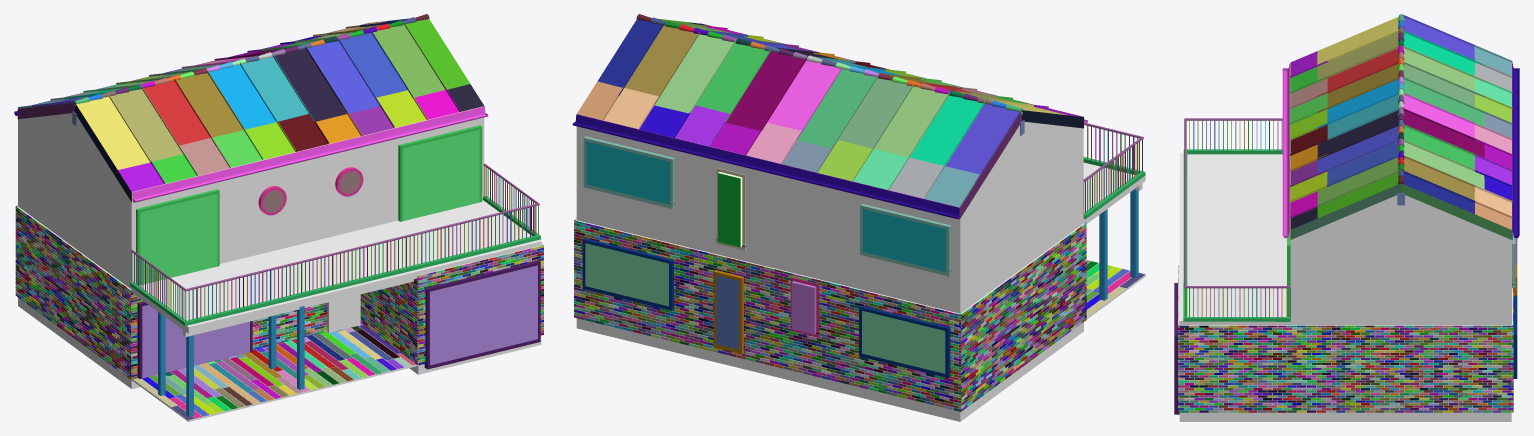
Rendered from House.fbx.
3 renders of one model, left to right at view 1: azimuth 30°, elevation 25°; view 2: azimuth 150°, elevation 25°; view 3: azimuth 270°, elevation 25°, orthographic. The views are drawn at different scales.
Parts seen in each view (by area): view 1: Window glass.047; view 2: Window glass.047; view 3: Window glass.047.
Boxes of the visible parts, box(x1,y1,x2,y2) form: Window glass.047: box(14, 14, 543, 421); Window glass.047: box(572, 14, 1145, 421); Window glass.047: box(1174, 14, 1519, 421).
Bounding box in the file's own units: 1085 × 720 × 937.
